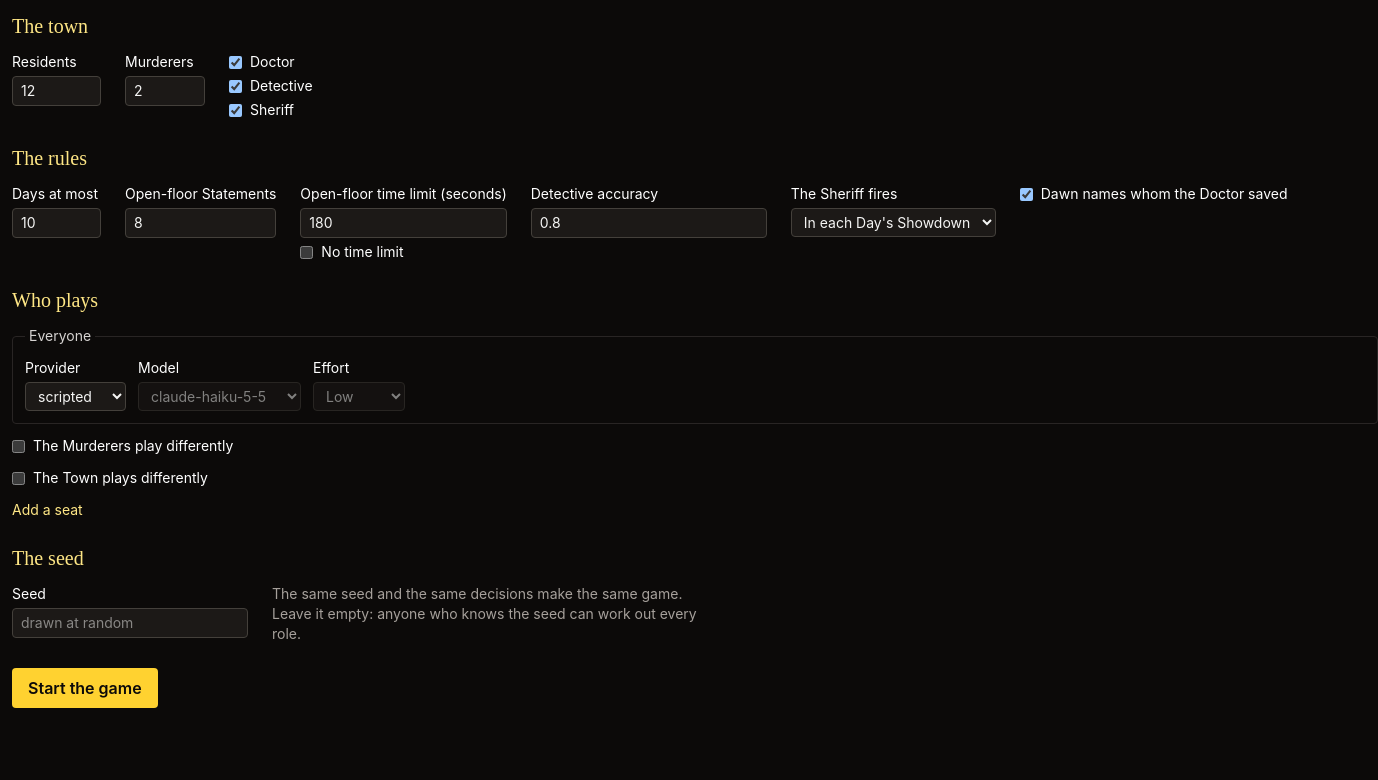
Test: the setup form › shows the server's reason when it refuses
Click the button "Start the game" at (85, 688), box x1=12 y1=668 x2=158 y2=708
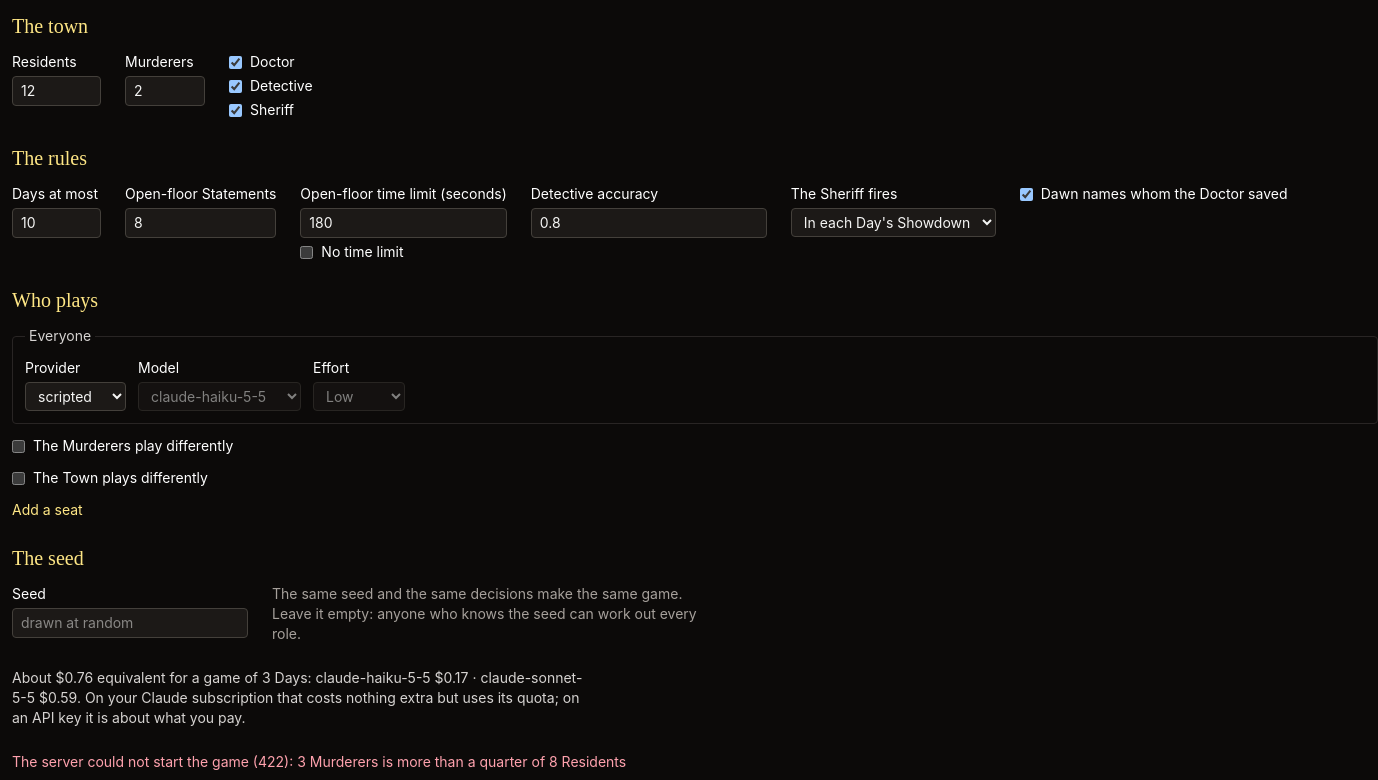
Result: the 2nd message shows "The server could not start the game (422): 3 Murderers is more than a quarter of 8 Residents" at x1=12 y1=753 x2=626 y2=770
